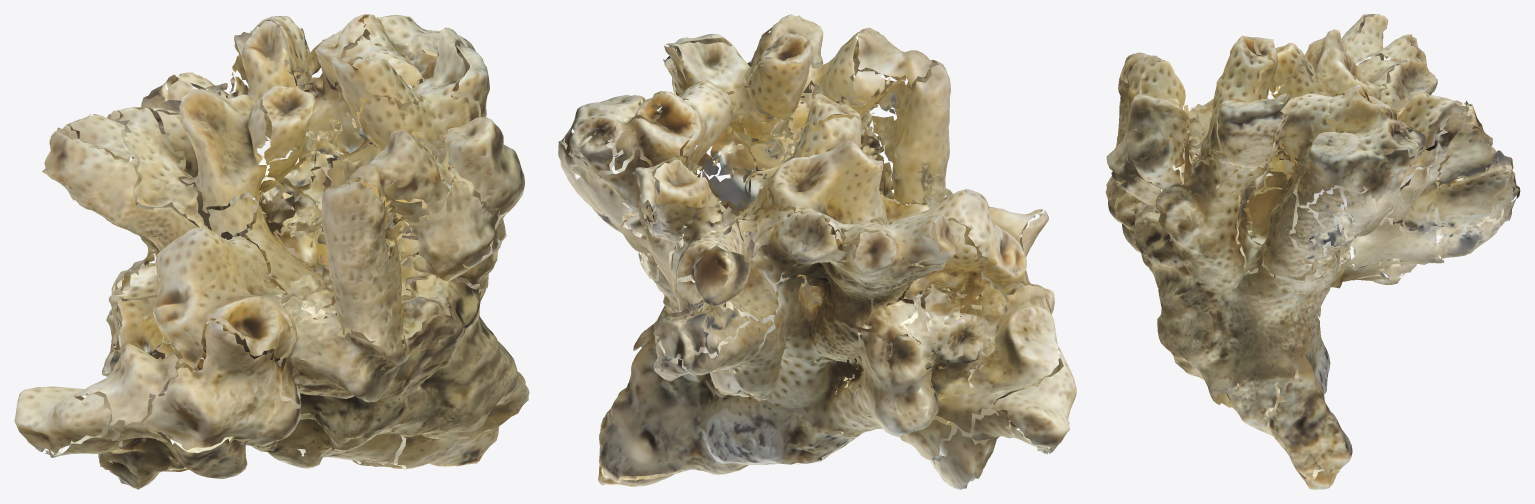
File: modelo3.glb
The picture shows the model from 3 angles, left to right: view 1: azimuth 30°, elevation 25°; view 2: azimuth 150°, elevation 25°; view 3: azimuth 270°, elevation 25°; orthographic projection. The views are drawn at different scales.
Parts seen in each view (by area): view 1: ghunlpam-28000; view 2: ghunlpam-28000; view 3: ghunlpam-28000.
Part boxes in pixels (box(x1,y1,x2,y2)): ghunlpam-28000: box(14, 14, 529, 489); ghunlpam-28000: box(558, 14, 1076, 489); ghunlpam-28000: box(1105, 14, 1520, 489).
Size of the model in its own units: 0.9955 by 0.9099 by 0.8777.
Materials: 1 (1 with a texture image).
